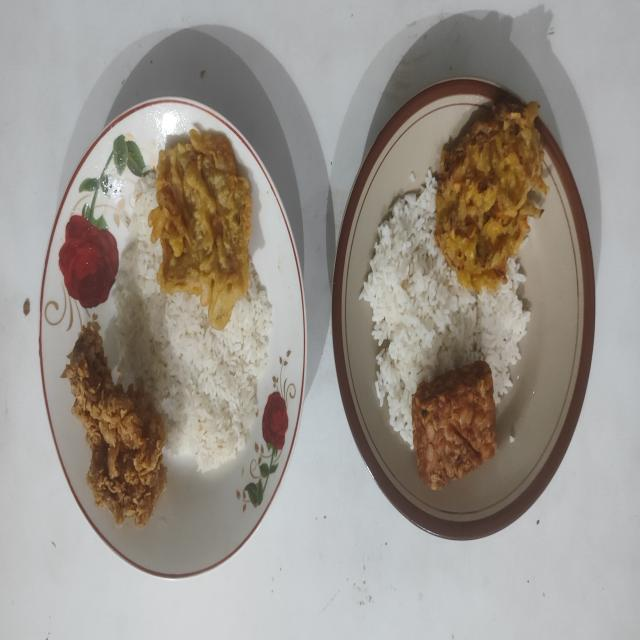nasi_putih: (360, 170, 530, 444), (114, 181, 273, 471)
tempe_goreng: (412, 361, 496, 490)
